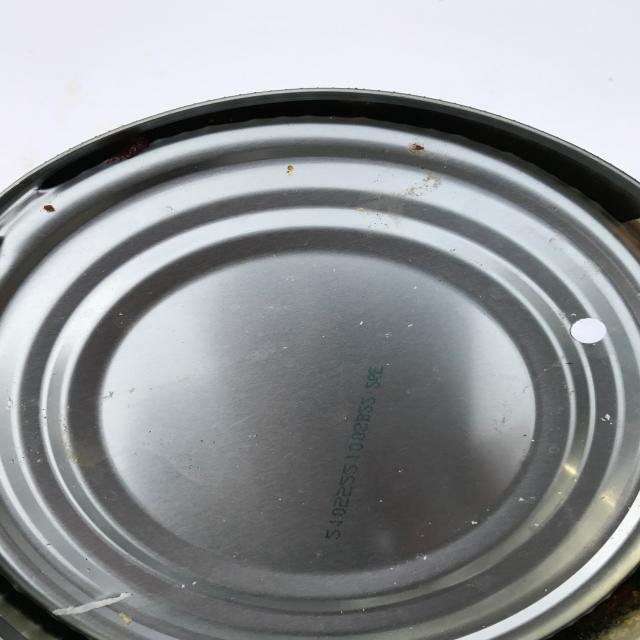metal: (0, 86, 640, 640)
